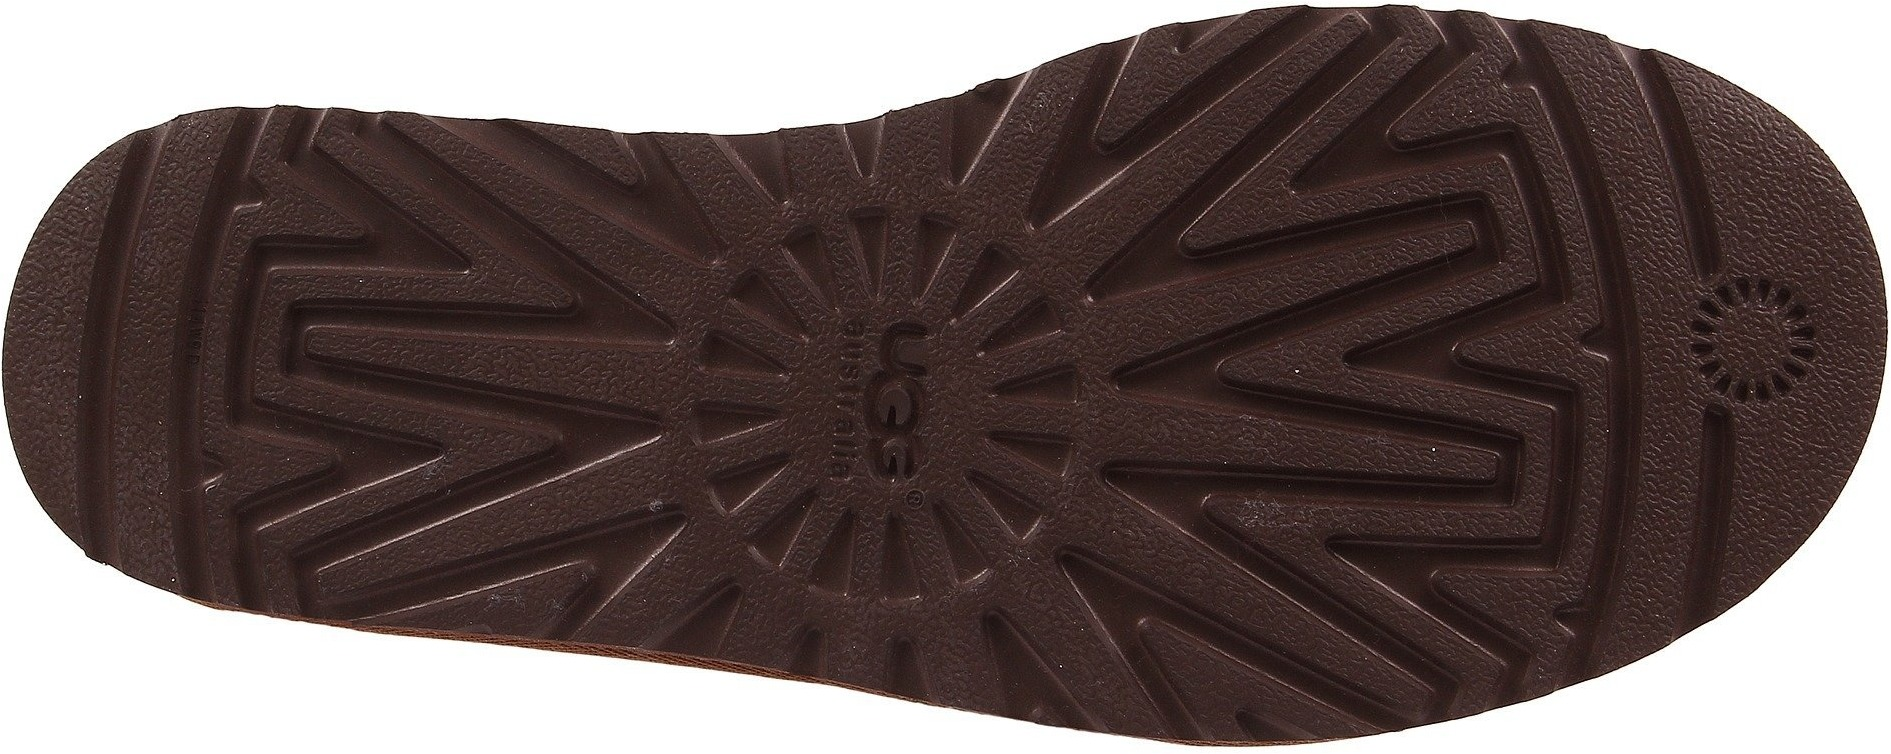chevron: (317, 166, 681, 512), (1101, 394, 1458, 725), (1081, 52, 1421, 376), (1451, 267, 1621, 432)
circle: (1658, 240, 1851, 442)
line: (1617, 93, 1778, 261), (30, 214, 195, 372), (160, 265, 311, 414), (1626, 442, 1776, 586), (40, 376, 172, 512)
star: (674, 195, 1102, 612)
text: (807, 318, 977, 489)
